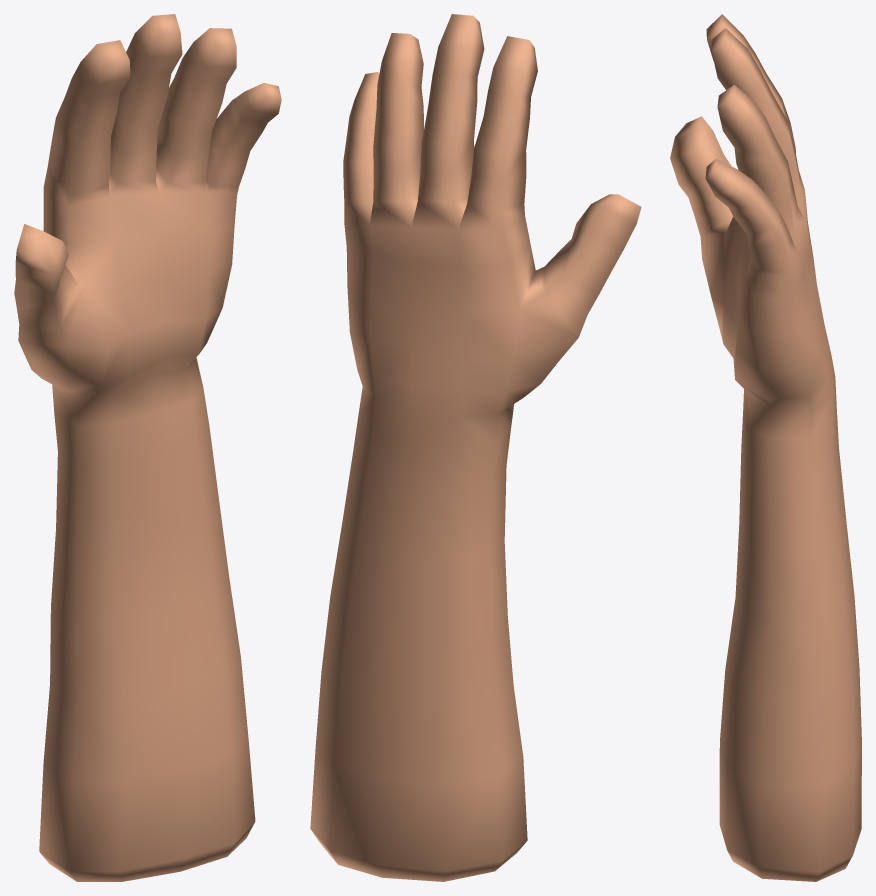
The model's file is hand_grobmesh.fbx.
3 renders of one model, left to right at view 1: azimuth 30°, elevation 25°; view 2: azimuth 150°, elevation 25°; view 3: azimuth 270°, elevation 25°, orthographic. The views are drawn at different scales.
Parts seen in each view (by area): view 1: hand_basemesh; view 2: hand_basemesh; view 3: hand_basemesh.
Part boxes in pixels (left/top/right/bottom): hand_basemesh: left=14, top=14, right=281, bottom=881; hand_basemesh: left=310, top=14, right=641, bottom=881; hand_basemesh: left=670, top=14, right=861, bottom=881.
Bounding box in the file's own units: 14.31 × 42.74 × 9.23.
